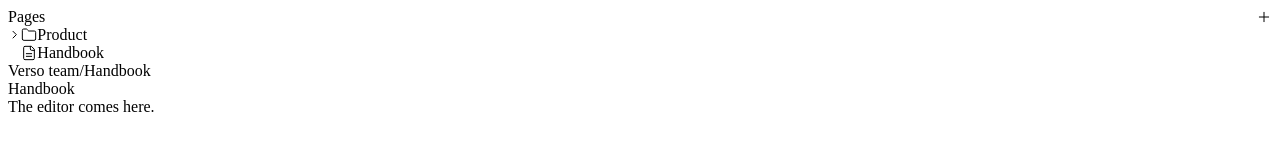
Test case: the title › is saved trimmed on Enter, and shows in the tree and the path
Replace the text in the field named "Page title" with "  Team handbook " at (640, 89), box [8,80,1272,98]
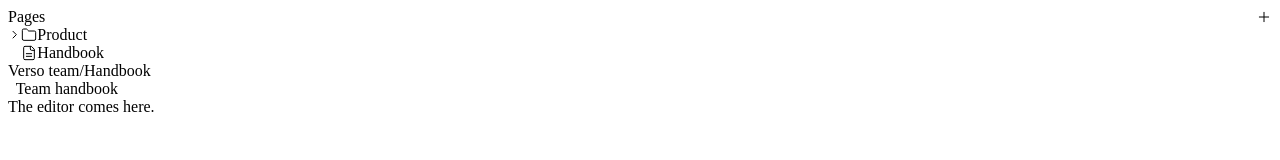
Press Enter in the field named "Page title", box [8,80,1272,98]
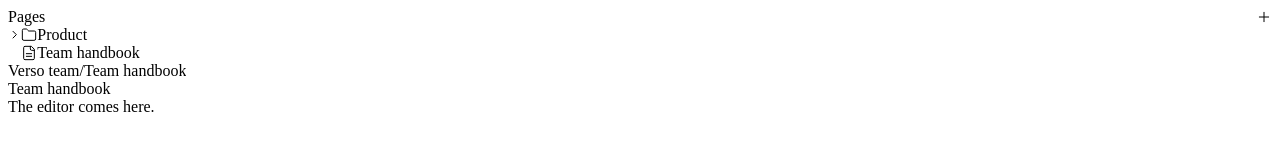
Result: the list item "Team handbook" below "Product" is shown at [21,44,140,61]
